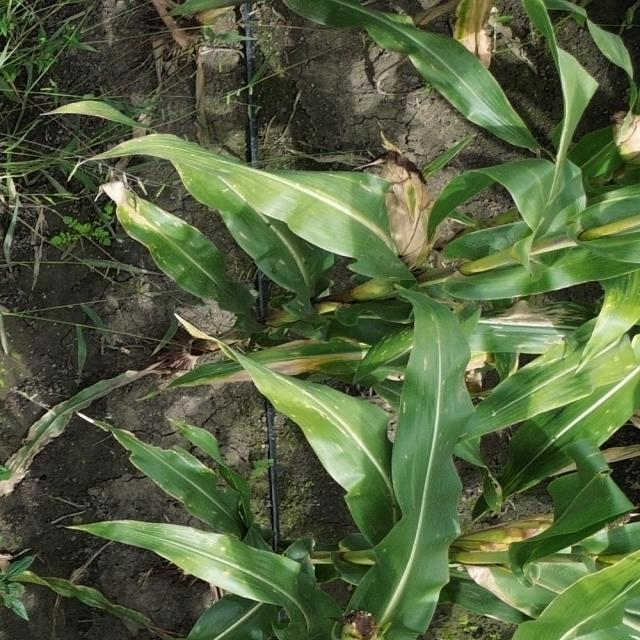gray-leaf-spot: (116, 199, 204, 268), (268, 375, 360, 437), (408, 350, 468, 444), (238, 225, 324, 288), (486, 306, 580, 353), (369, 324, 416, 366), (594, 349, 638, 384), (585, 401, 621, 438)
northern-leaf-blight: (225, 352, 350, 378)
southern-leaf-blight: (166, 525, 246, 578), (150, 468, 224, 524), (372, 20, 424, 53)
